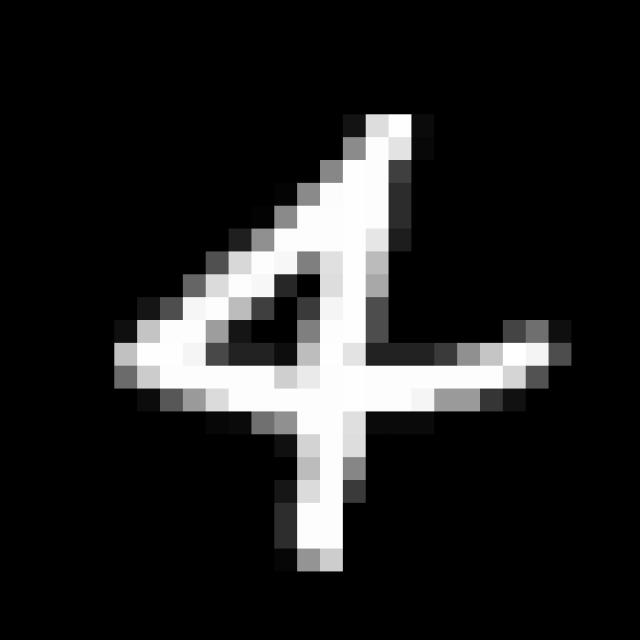four -4-: (87, 91, 580, 596)
